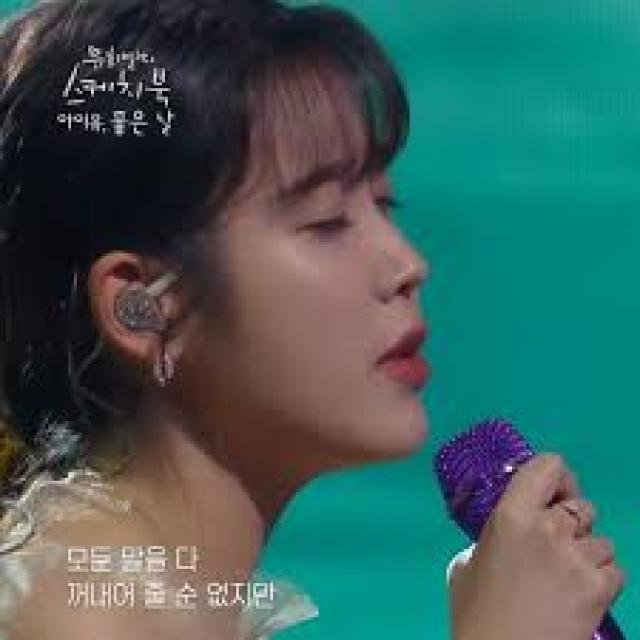earphone: (104, 272, 185, 340)
